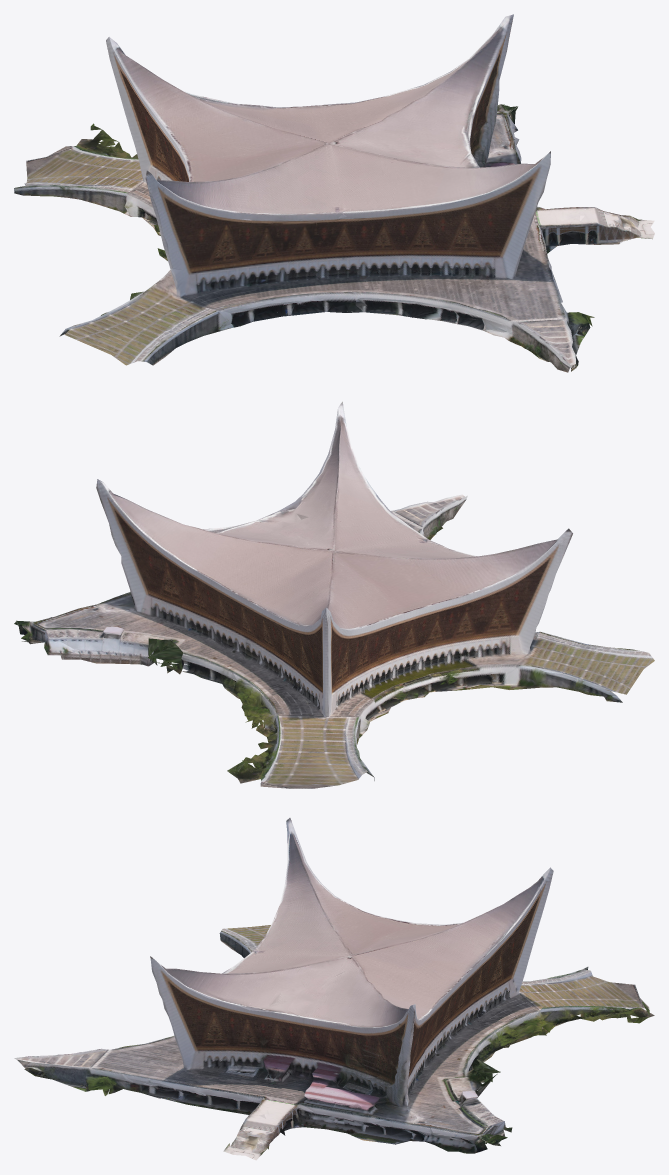
File: masjid_raya_sumatera_barat.glb
The picture shows the model from 3 angles, top to bottom: view 1: azimuth 30°, elevation 25°; view 2: azimuth 150°, elevation 25°; view 3: azimuth 270°, elevation 25°; orthographic projection. The views are drawn at different scales.
Visible parts, largest first — view 1: Model; view 2: Model; view 3: Model.
Boxes of the visible parts, bbox=[...] form: Model: bbox=[14, 14, 654, 372]; Model: bbox=[14, 401, 654, 788]; Model: bbox=[14, 818, 654, 1160].
Size of the model in its own units: 178 by 52.06 by 202.
1 material, 1 textured.
